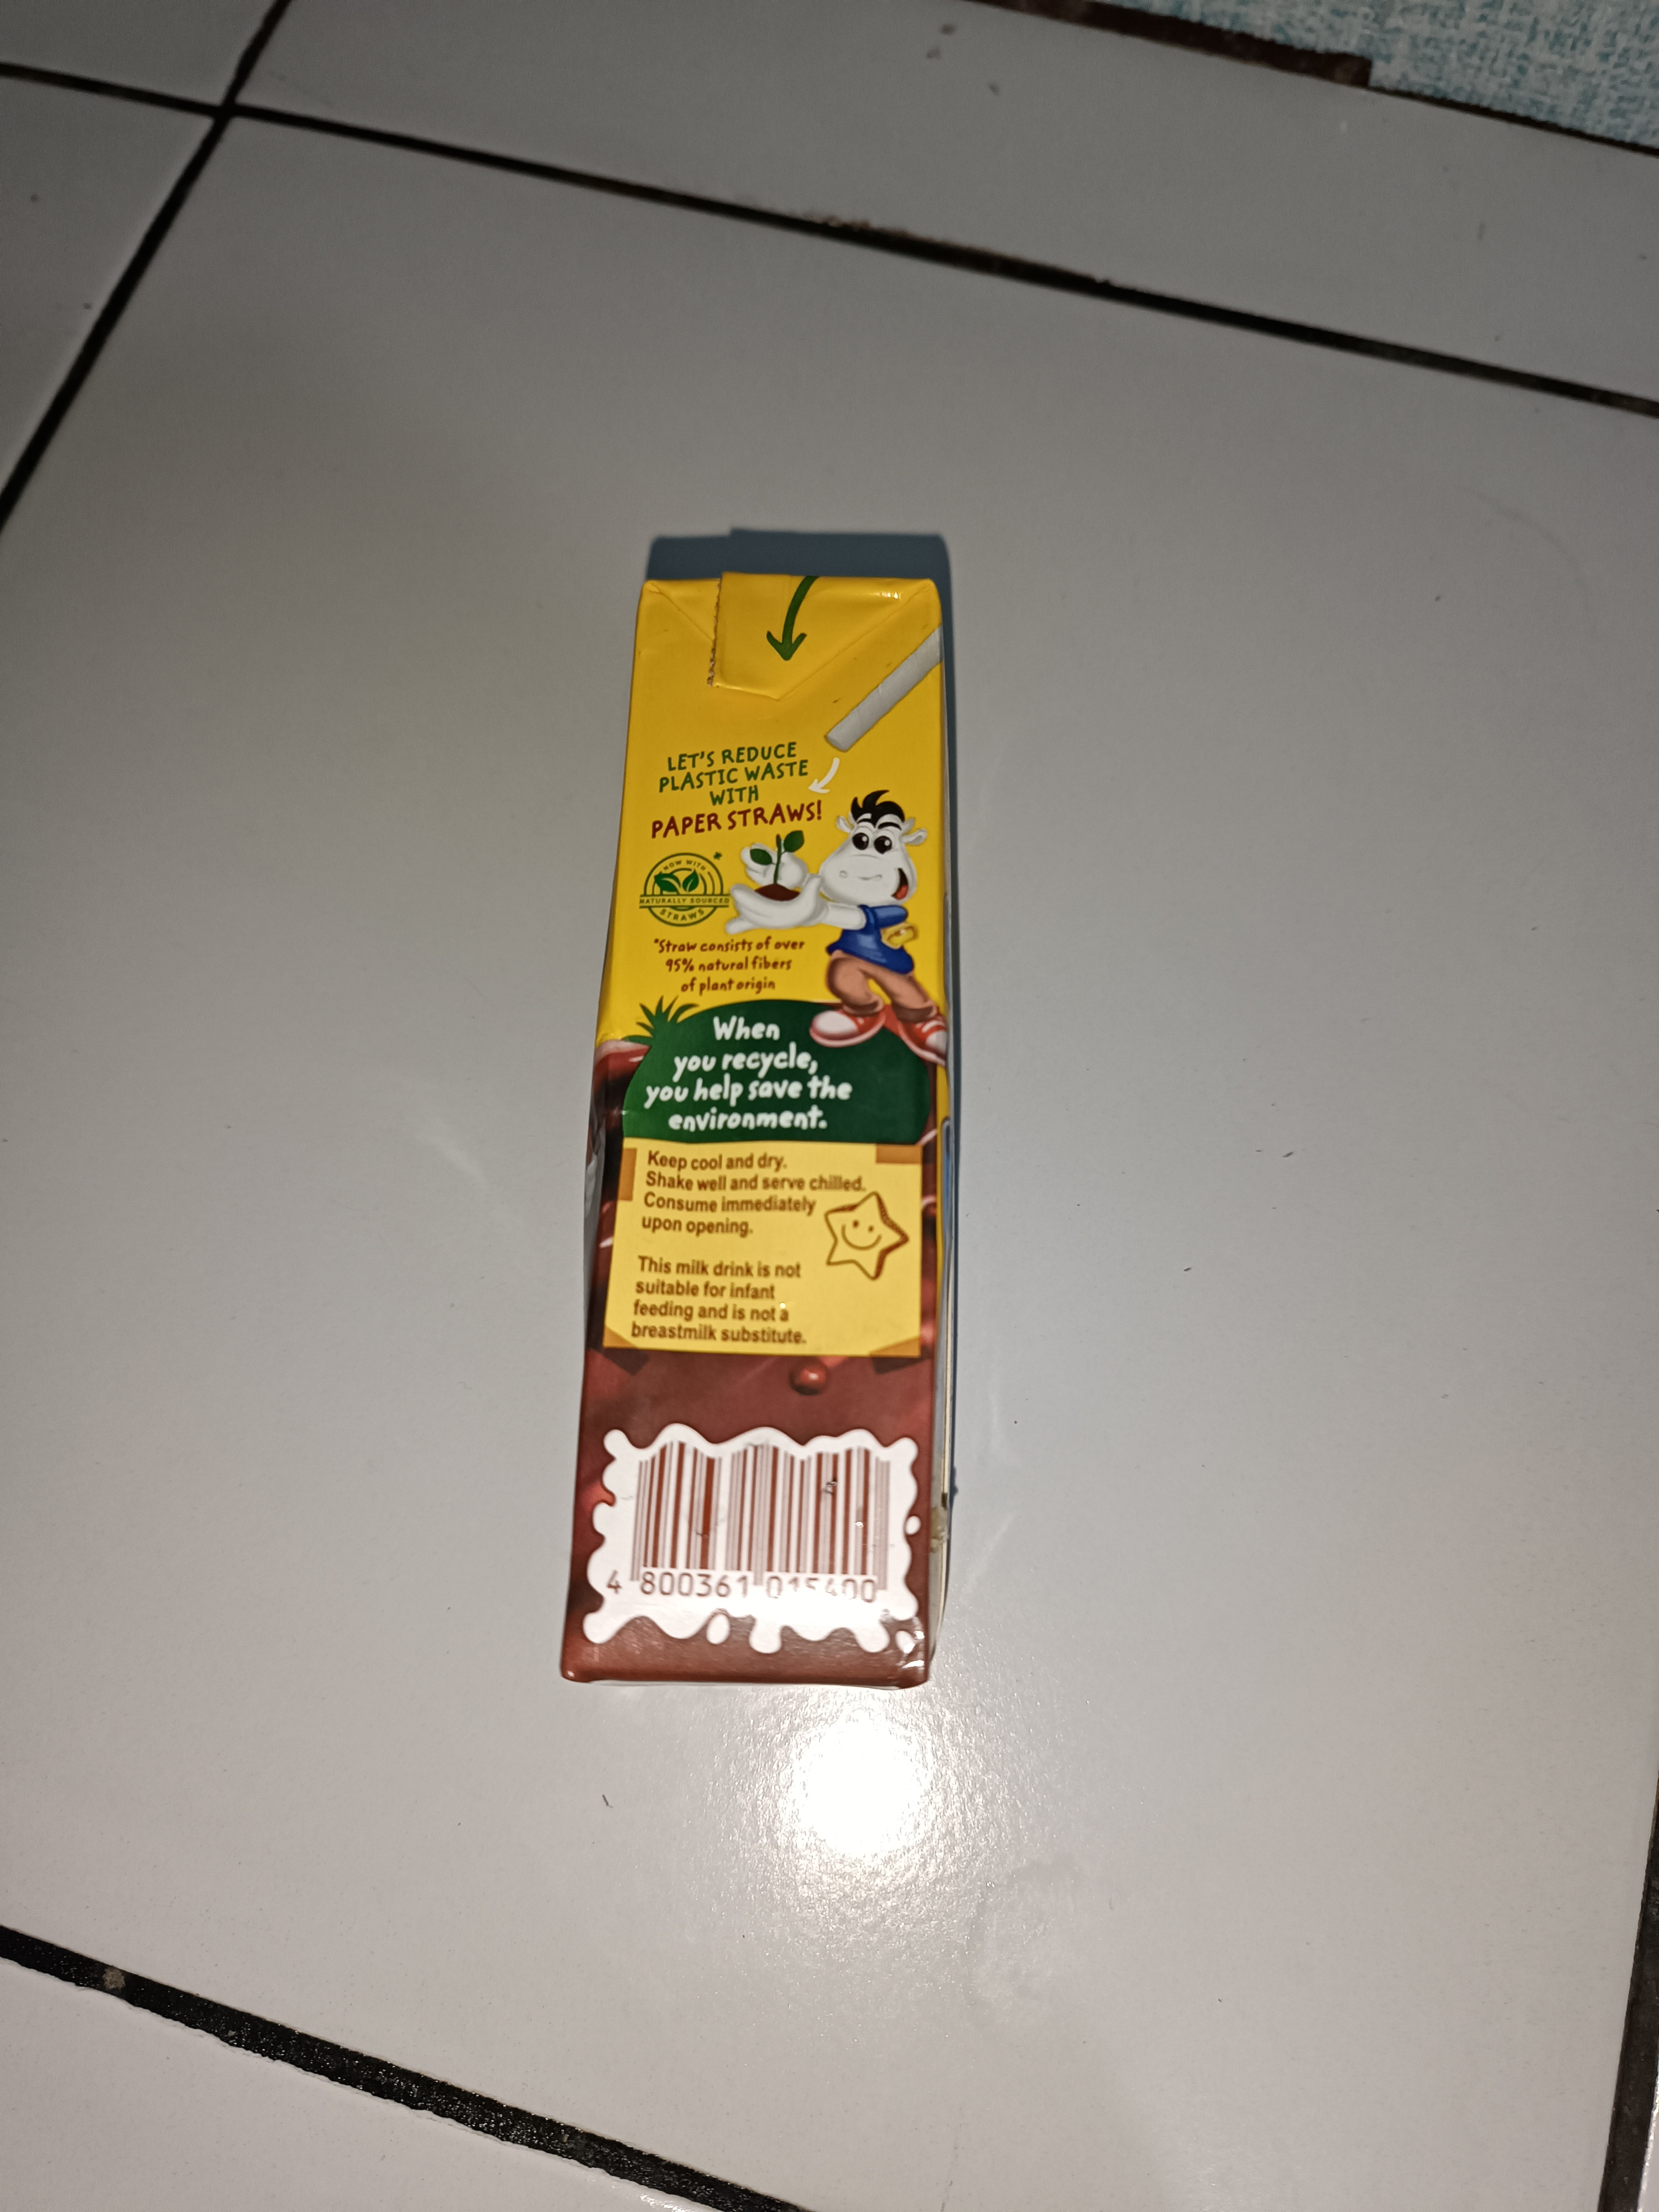Juice Box: (397, 505, 1154, 1803)
